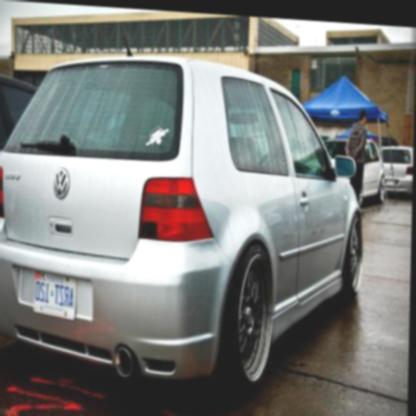License_Plate: (33, 272, 77, 322)
